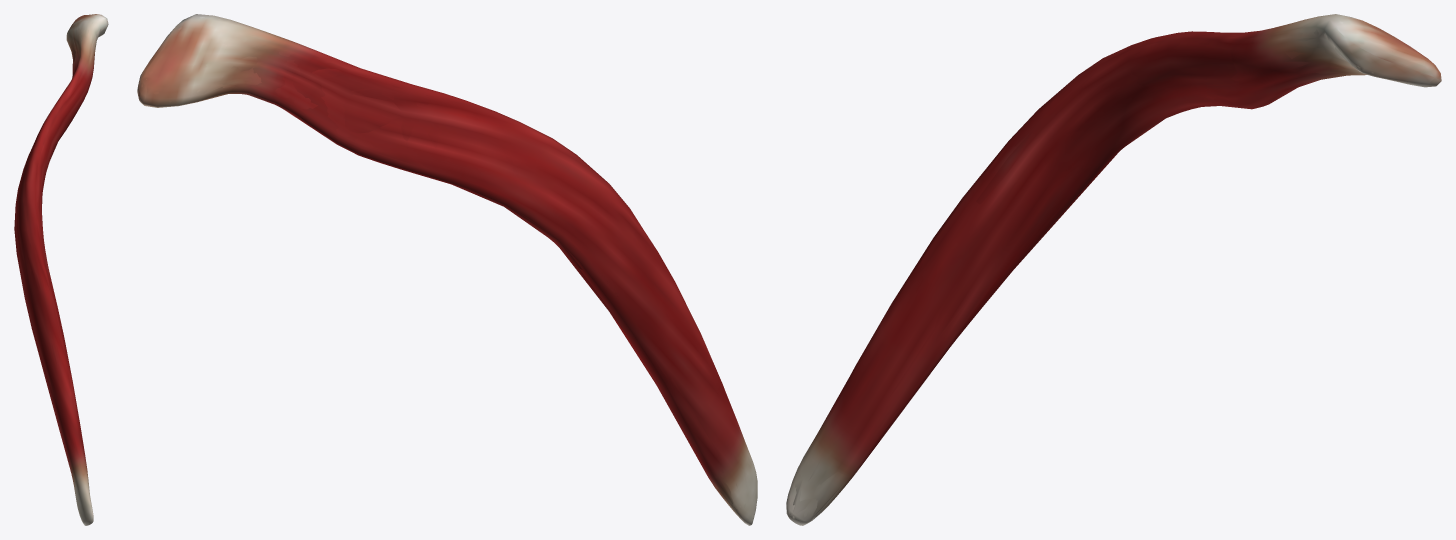
The model's file is R Caudofemoralis.fbx.
The picture shows the model from 3 angles, left to right: view 1: azimuth 30°, elevation 25°; view 2: azimuth 150°, elevation 25°; view 3: azimuth 270°, elevation 25°; orthographic projection. The views are drawn at different scales.
Parts seen in each view (by area): view 1: R Caudofemoralis, R Caudofemoralis low, R Caudofemoralis high; view 2: R Caudofemoralis, R Caudofemoralis low, R Caudofemoralis high; view 3: R Caudofemoralis, R Caudofemoralis low, R Caudofemoralis high.
Boxes of the visible parts, x1,y1,x2,y2 form: R Caudofemoralis: (14,14,108,525); R Caudofemoralis low: (20,14,107,525); R Caudofemoralis high: (15,15,101,519); R Caudofemoralis: (137,14,757,525); R Caudofemoralis low: (137,15,754,523); R Caudofemoralis high: (138,17,757,523); R Caudofemoralis: (786,14,1441,525); R Caudofemoralis low: (786,17,1440,523); R Caudofemoralis high: (786,16,1438,522).
Size of the model in its own units: 3.41 by 6.54 by 6.01.
Materials: 1 (1 with a texture image).
